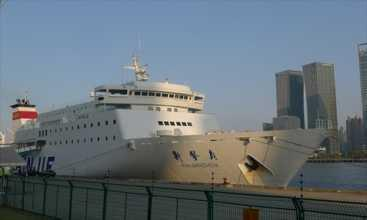youlun: (4, 53, 327, 194)
